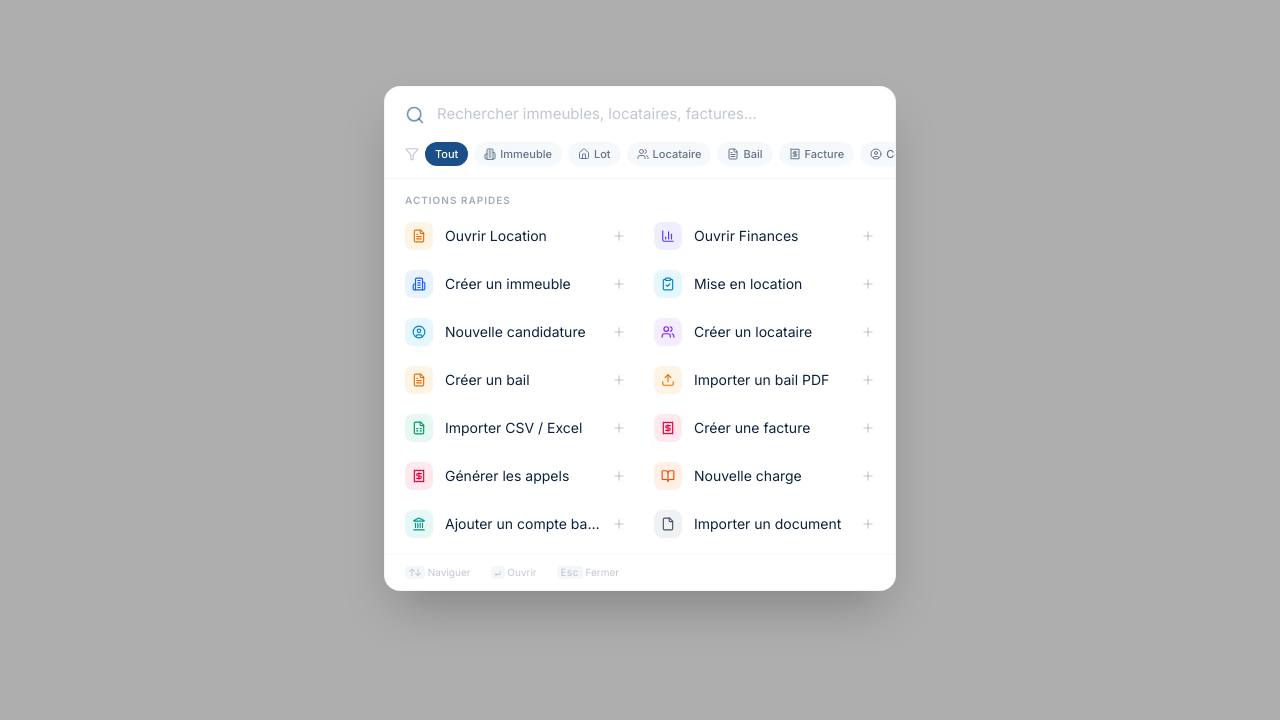
Test: GlobalSearch › trouve les parcours métier avancés avec des mots-clés naturels
The image size is (1280, 720).
Type "revision" into the field with placeholder "Rechercher immeubles, locataires, factures..." at (656, 115), box top-left (437, 103), bottom-right (875, 126)
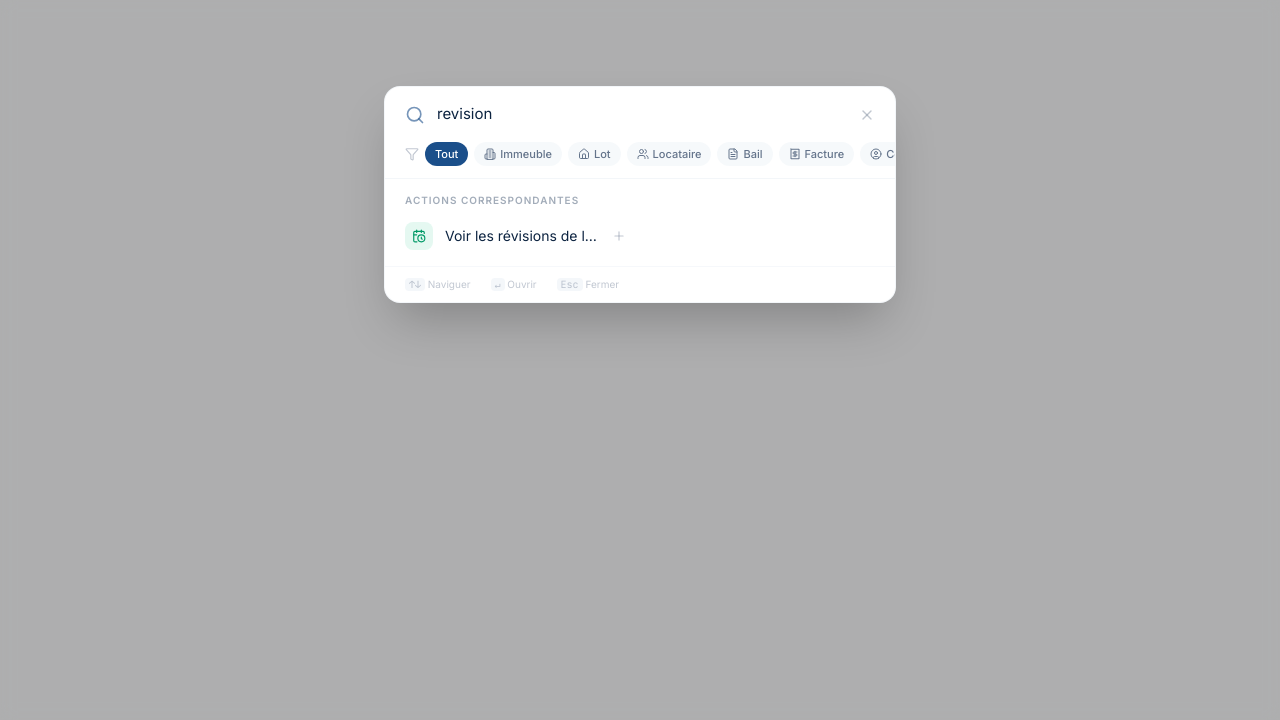
expect the button "Voir les révisions de loyer" is shown: met, box top-left (393, 214), bottom-right (638, 258)
expect the button "Ajouter un compte bancaire" is gone: met
